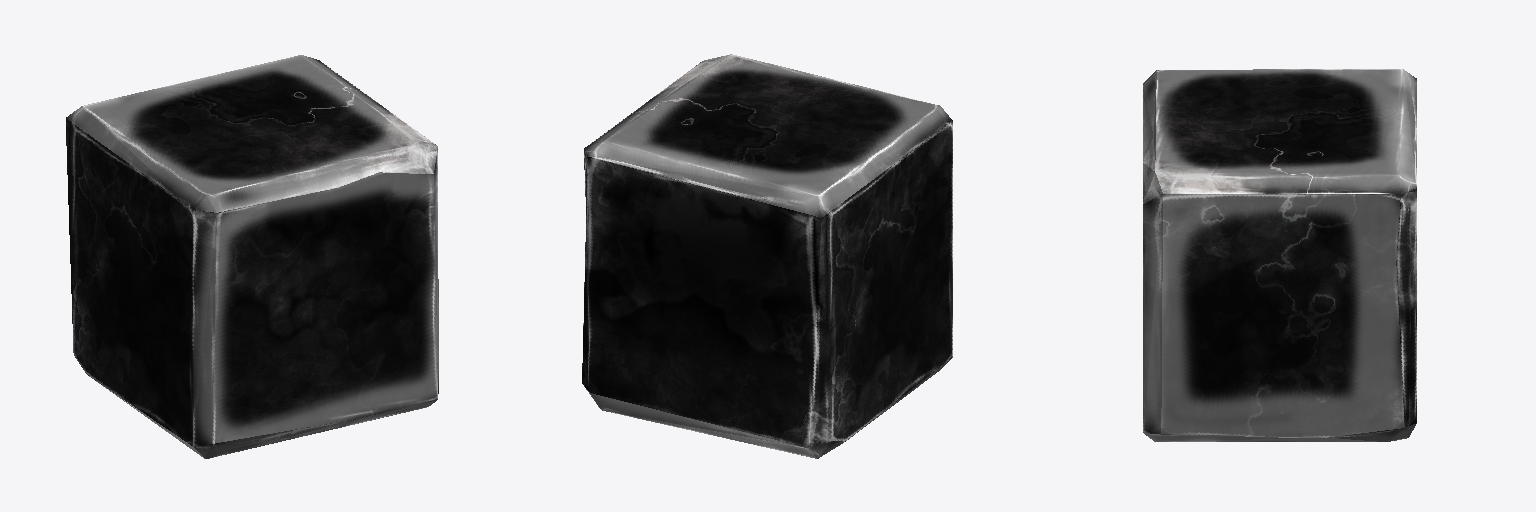
3 views of the same model, side by side, from view 1: azimuth 30°, elevation 25°; view 2: azimuth 150°, elevation 25°; view 3: azimuth 270°, elevation 25° (orthographic).
Parts seen in each view (by area): view 1: Cube; view 2: Cube; view 3: Cube.
Boxes of the visible parts, x1=… form: Cube: x1=66, y1=55, x2=438, y2=458; Cube: x1=582, y1=54, x2=952, y2=458; Cube: x1=1143, y1=69, x2=1416, y2=441.
Size of the model in its own units: 87.25 by 89.08 by 83.78.
Materials: 1 (1 with a texture image).